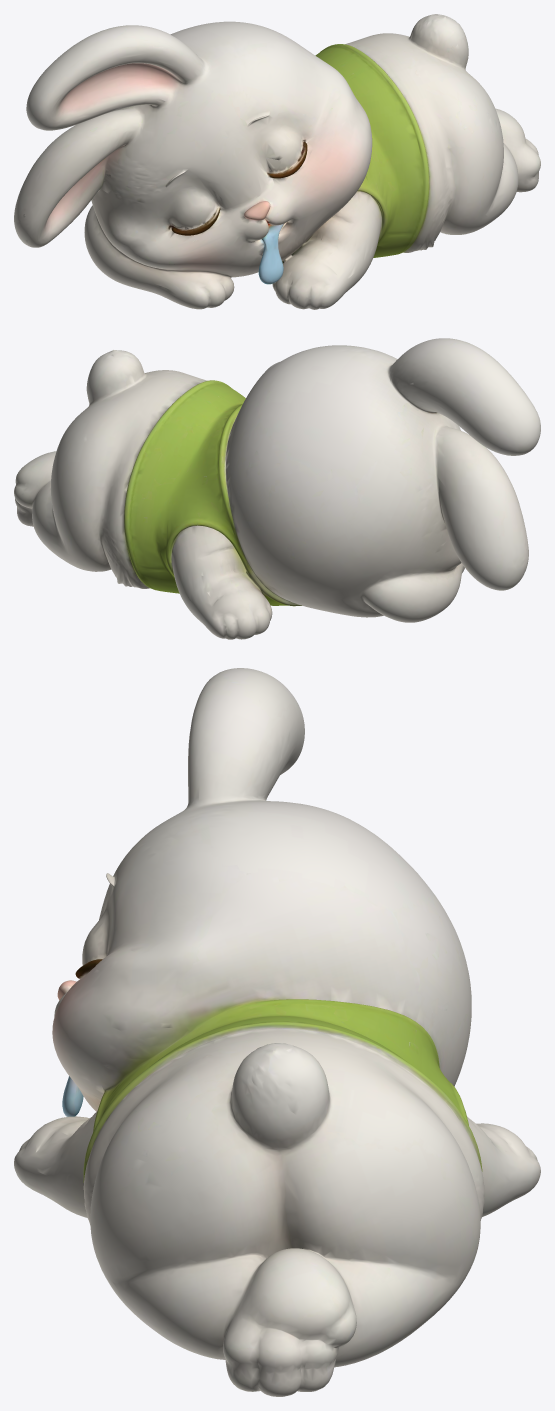
Rendered from rabbit-sleep-deep.glb.
3 views of the same model, one above another, from view 1: azimuth 30°, elevation 25°; view 2: azimuth 150°, elevation 25°; view 3: azimuth 270°, elevation 25° (orthographic). The views are drawn at different scales.
Parts seen in each view (by area): view 1: node_0; view 2: node_0; view 3: node_0.
Boxes of the visible parts, left/top/right/bottom form: node_0: left=14, top=14, right=540, bottom=309; node_0: left=14, top=338, right=540, bottom=639; node_0: left=14, top=668, right=540, bottom=1396.
Size of the model in its own units: 1.1 by 0.5438 by 0.6352.
Materials: 1 (1 with a texture image).
